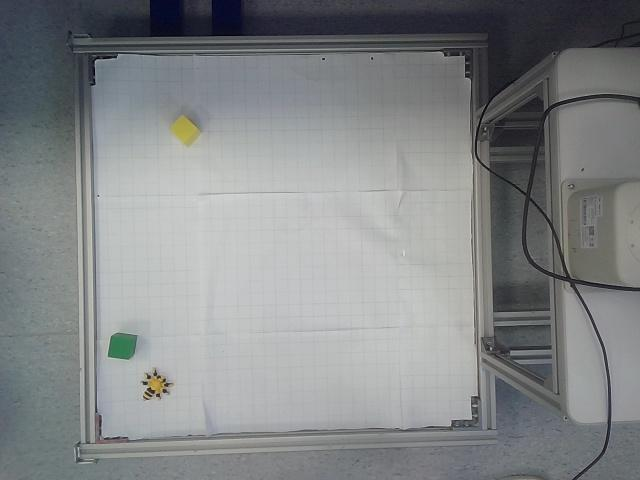frelon: (141, 369, 174, 401)
